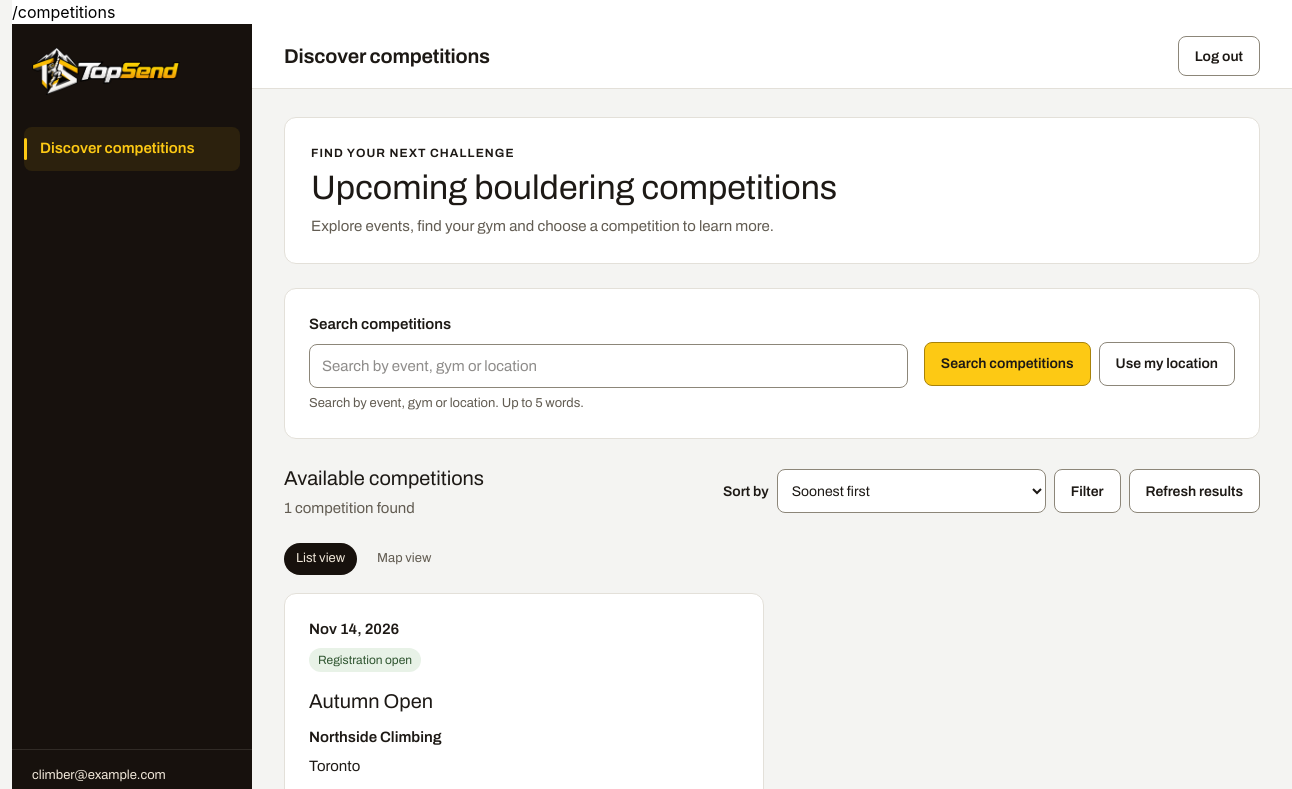
Test: US025 starting from a place the Climber searches for (criterion 6) › starts from a place picked from the suggestions, keeping its name and point in the address
Click the button "Filter" at (1087, 491), box [1054,469,1121,513]
(page scrolled)
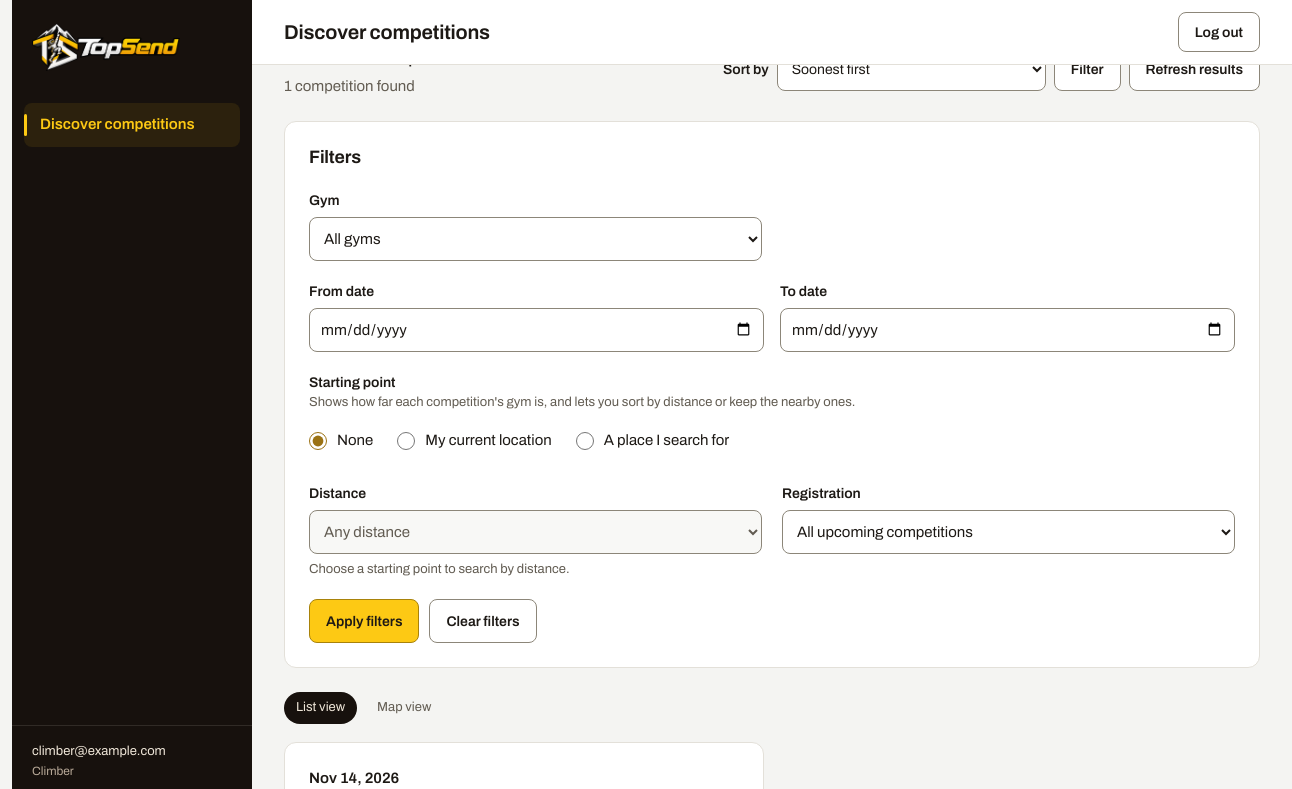
Click the radio button labelled "A place I search for" at (585, 441), box [576,432,594,450]
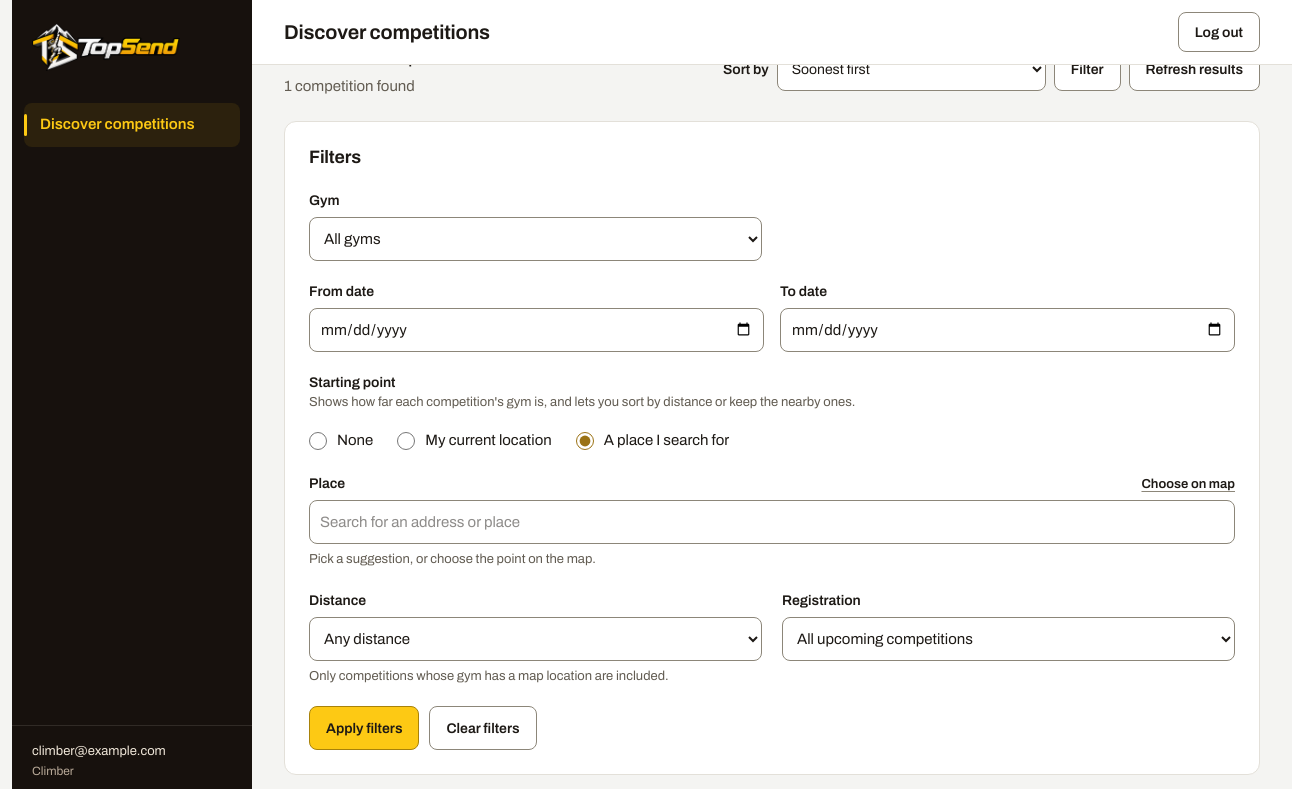
Type "Union" into the dropdown labelled "Place" at (772, 522), box [309,500,1235,544]
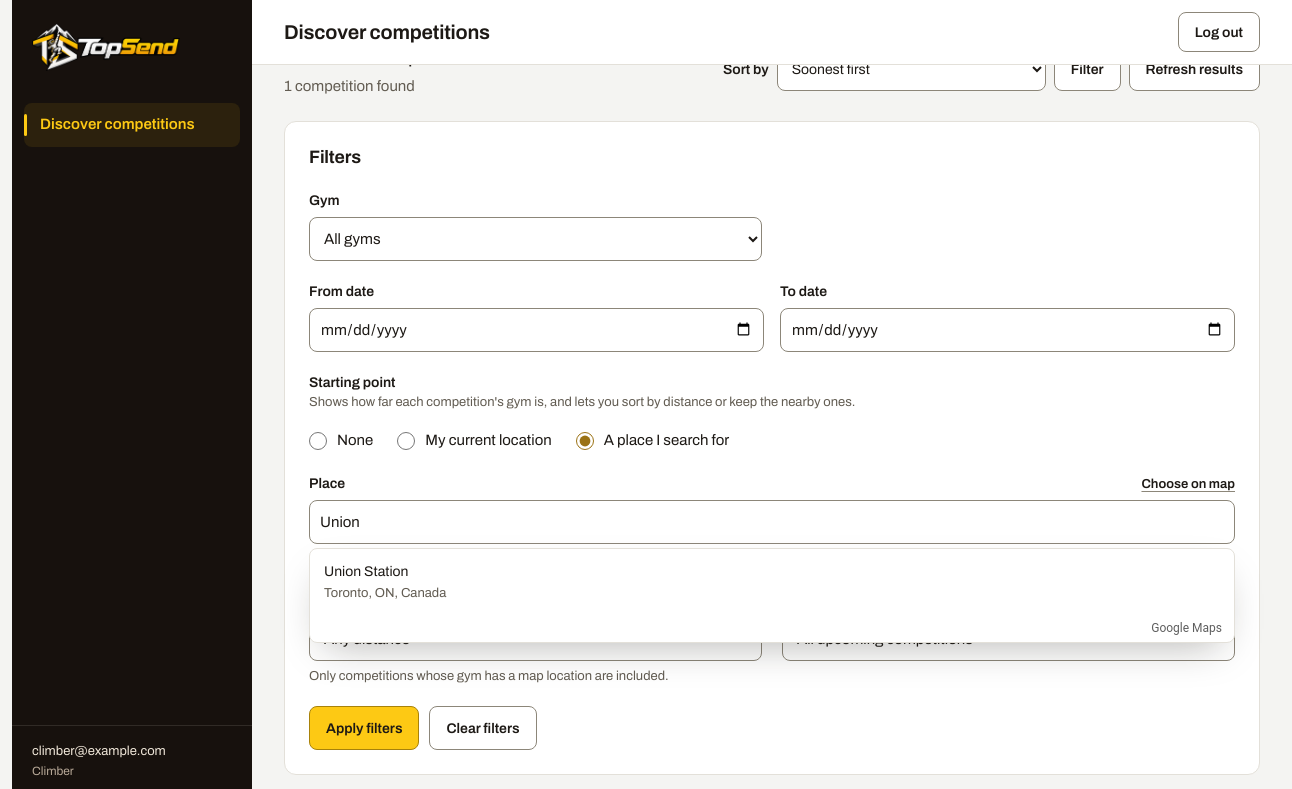
Click the option "Union Station Toronto, ON, Canada" at (366, 572), box [324,564,446,600]
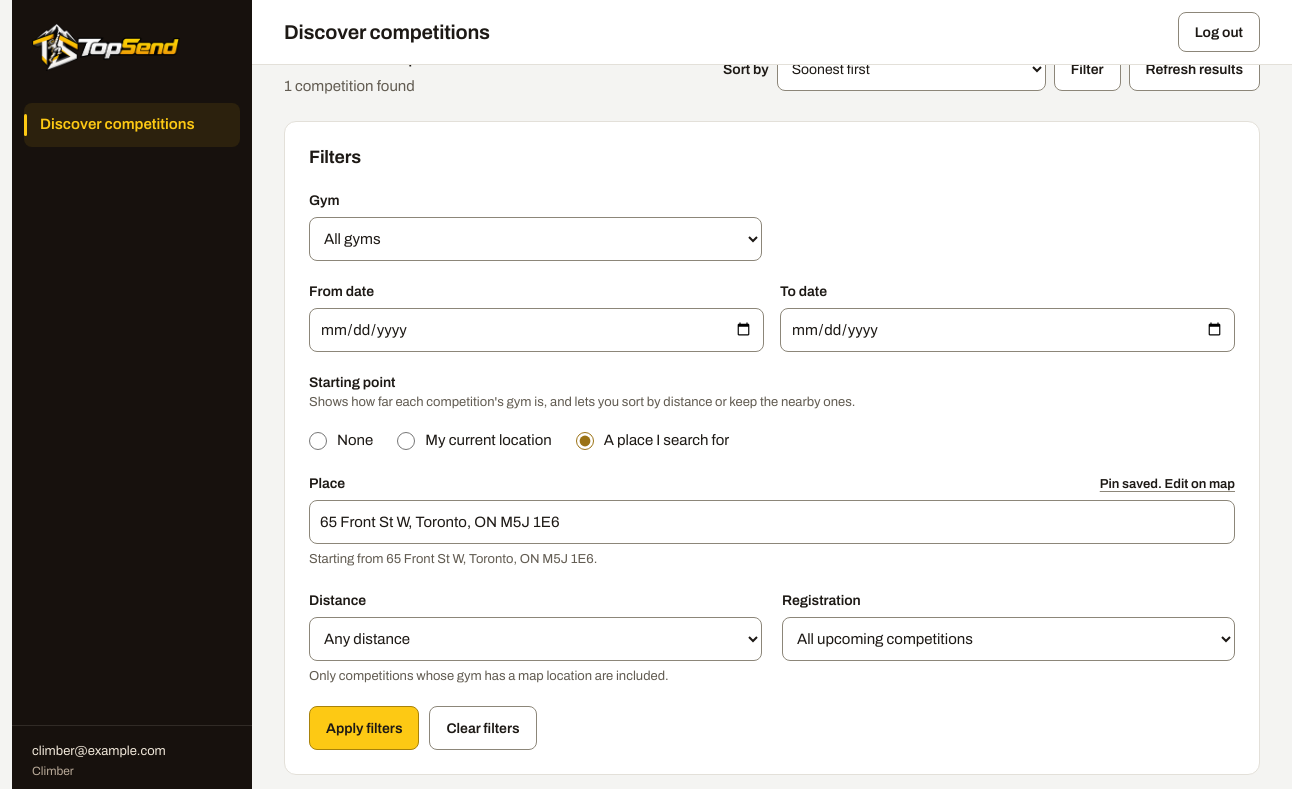
expect the text "Starting from 65 Front St W, Toronto, ON M5J 1E6." is shown: met, box [309,552,597,566]
Click the button "Apply filters" at (364, 728), box [309,706,420,750]
(page scrolled)
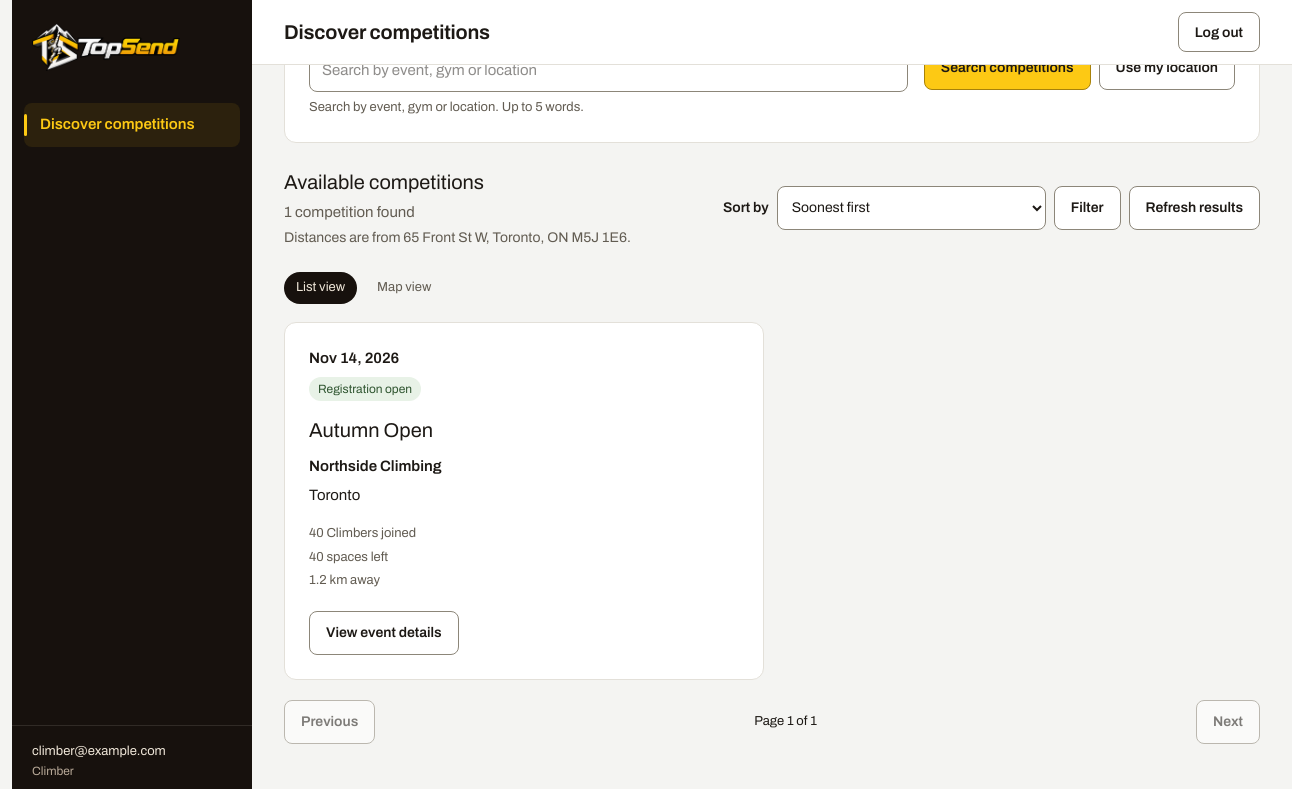
expect the text "Distances are from 65 Front St W, Toronto, ON M5J 1E6." is shown: met, box [284,227,631,248]
